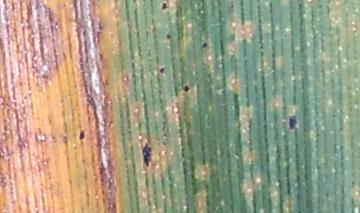tarspot: (140, 141, 153, 169), (287, 113, 298, 132), (77, 128, 86, 142), (159, 1, 169, 11), (183, 83, 191, 94), (158, 64, 166, 75), (199, 41, 209, 49), (164, 33, 172, 40)
